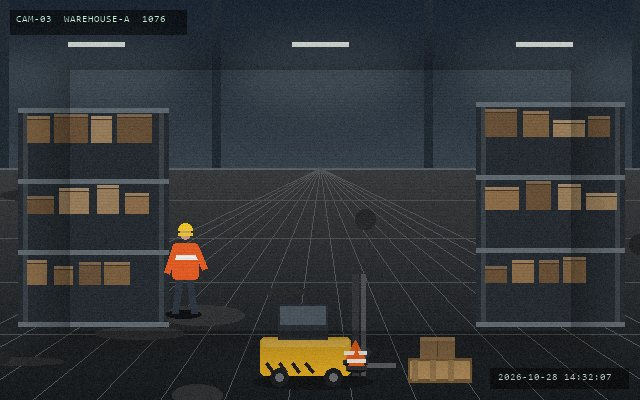cone: (342, 338, 368, 366), (345, 348, 367, 372)
forklift: (256, 272, 397, 389)
pallet: (406, 356, 473, 384)
person: (164, 221, 206, 317)
shelf: (476, 102, 624, 322), (18, 108, 168, 322)
